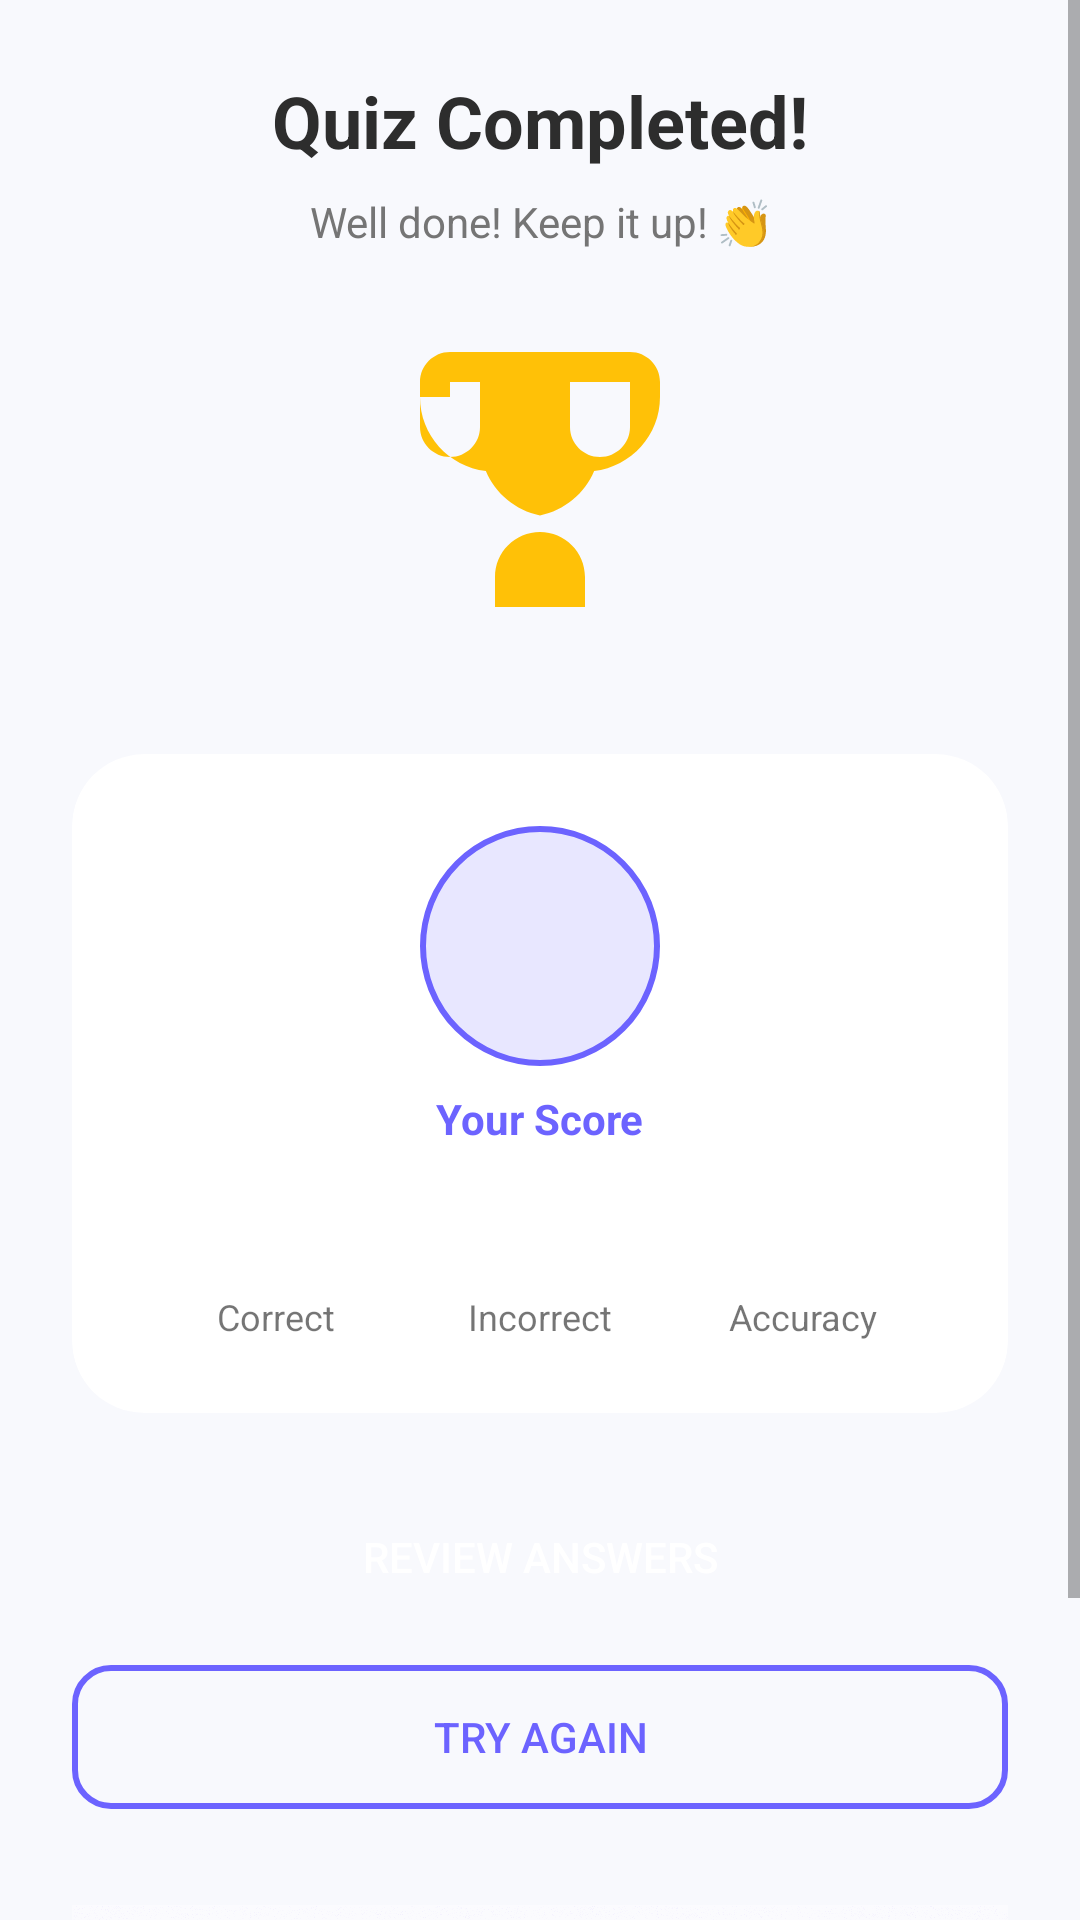

Icons on this 1080x1920 Android screen, each with the point to tap as (x=x, y=y):
trophy: (x=540, y=479)
